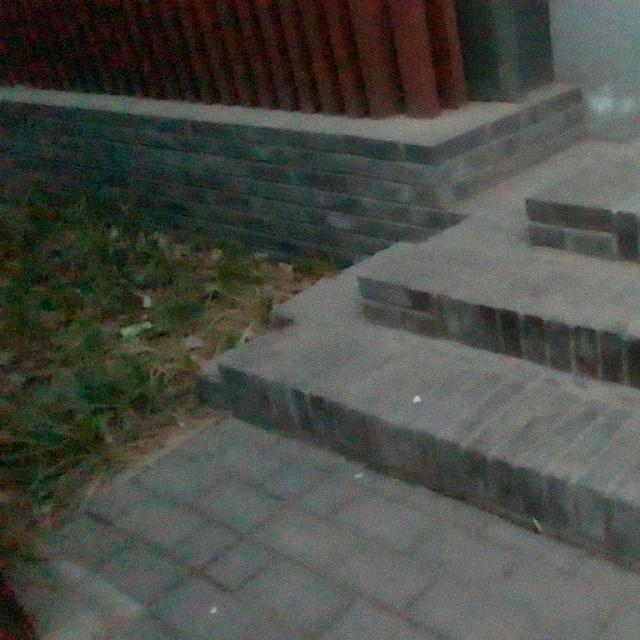stair: (247, 180, 635, 467)
